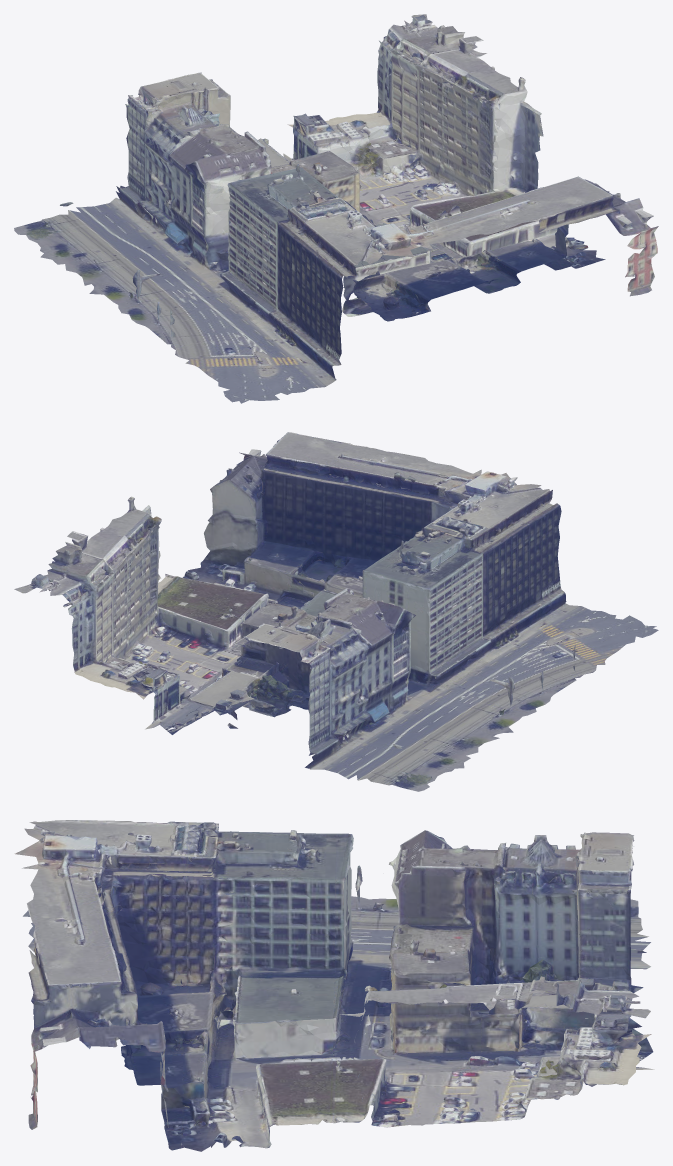
The picture shows the model from 3 angles, top to bottom: view 1: azimuth 30°, elevation 25°; view 2: azimuth 150°, elevation 25°; view 3: azimuth 270°, elevation 25°; orthographic projection. The views are drawn at different scales.
Size of the model in its own units: 107 by 33.19 by 109.
1 material, 1 textured.
